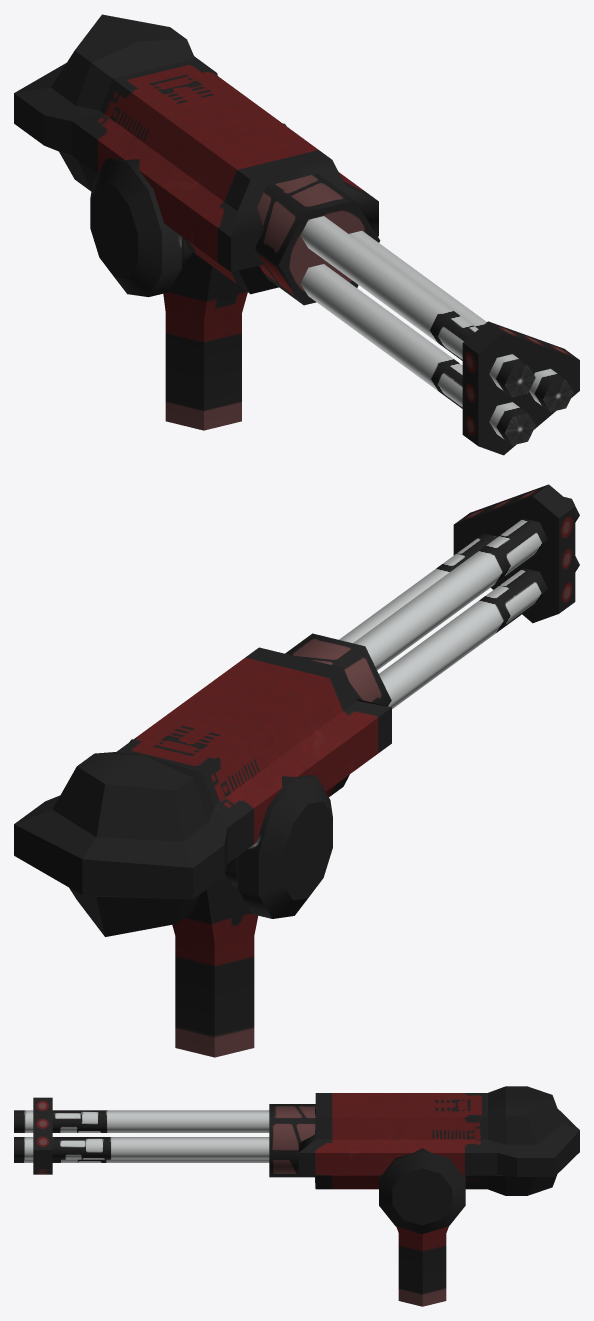
File: gatlingMergedUp.fbx
3 renders of one model, top to bottom at view 1: azimuth 30°, elevation 25°; view 2: azimuth 150°, elevation 25°; view 3: azimuth 270°, elevation 25°, orthographic. The views are drawn at different scales.
Parts seen in each view (by area): view 1: gatlingGunMergedUp; view 2: gatlingGunMergedUp; view 3: gatlingGunMergedUp.
Part boxes in pixels (x1=…): gatlingGunMergedUp: x1=14, y1=14, x2=579, y2=455; gatlingGunMergedUp: x1=14, y1=484, x2=579, y2=1057; gatlingGunMergedUp: x1=14, y1=1086, x2=579, y2=1306.
Size of the model in its own units: 0.1926 by 0.3217 by 0.8207.
Materials: 1 (1 with a texture image).
